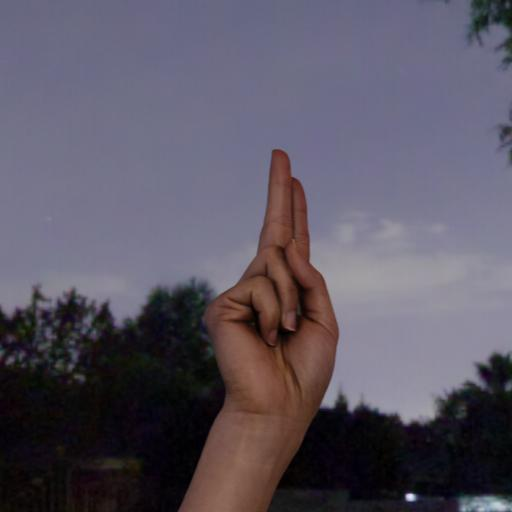U: (170, 114, 392, 432)
